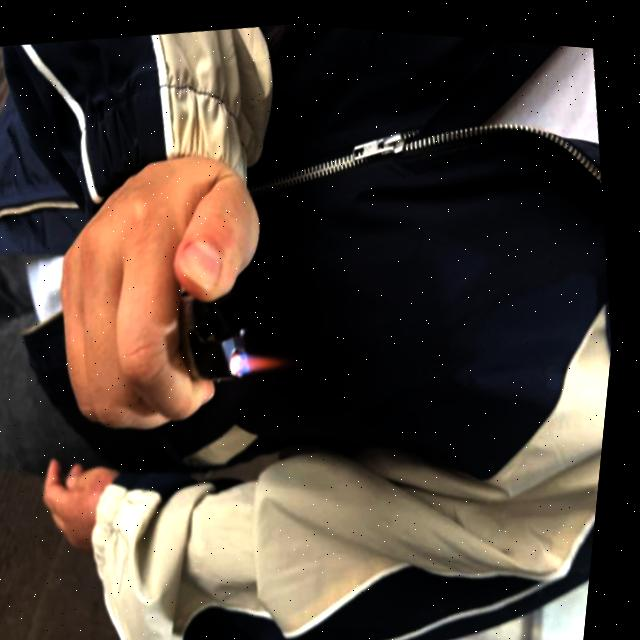Fire: (237, 338, 306, 375)
